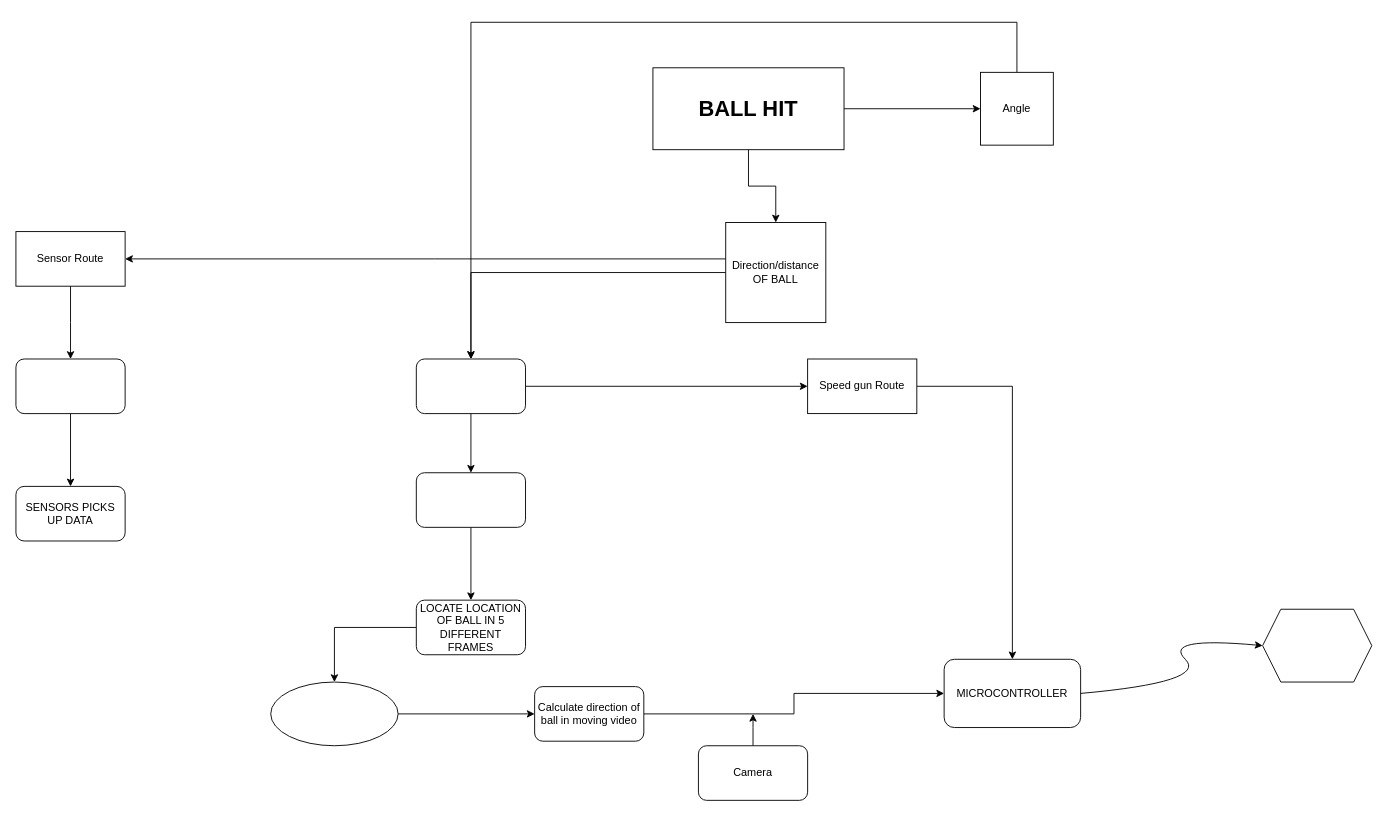
This 1388x816 diagram has some shape labels left out. The box of each missing label's shape, as (x1, y1, x2, y2) in pixels:
CALCULATE BALL DIRECTION AND DISTANCE: (270, 681, 398, 746)
CODE THAT CAN LOCATE A BALL FROM AN IMAGE: (415, 472, 526, 527)
DEVICE BALL FLIES THROUGH: (15, 358, 125, 414)
GOAL: (1262, 608, 1372, 682)
IMAGE PROCESSING ROUTE: (415, 358, 526, 414)
